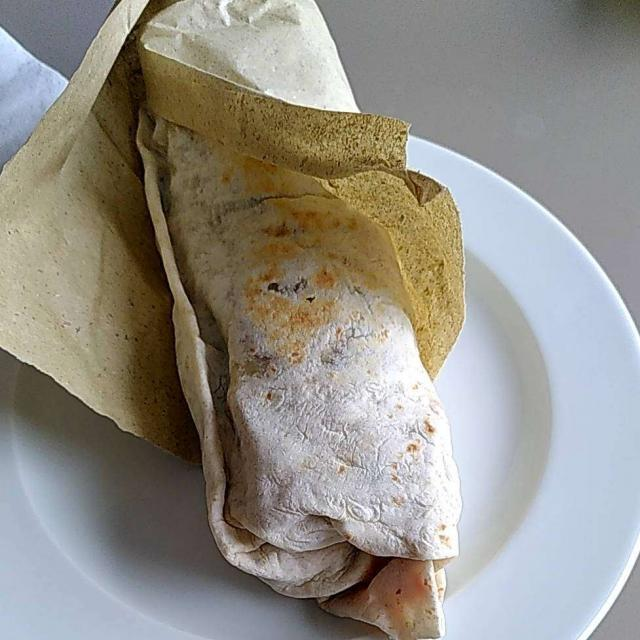bread: (137, 110, 460, 635)
